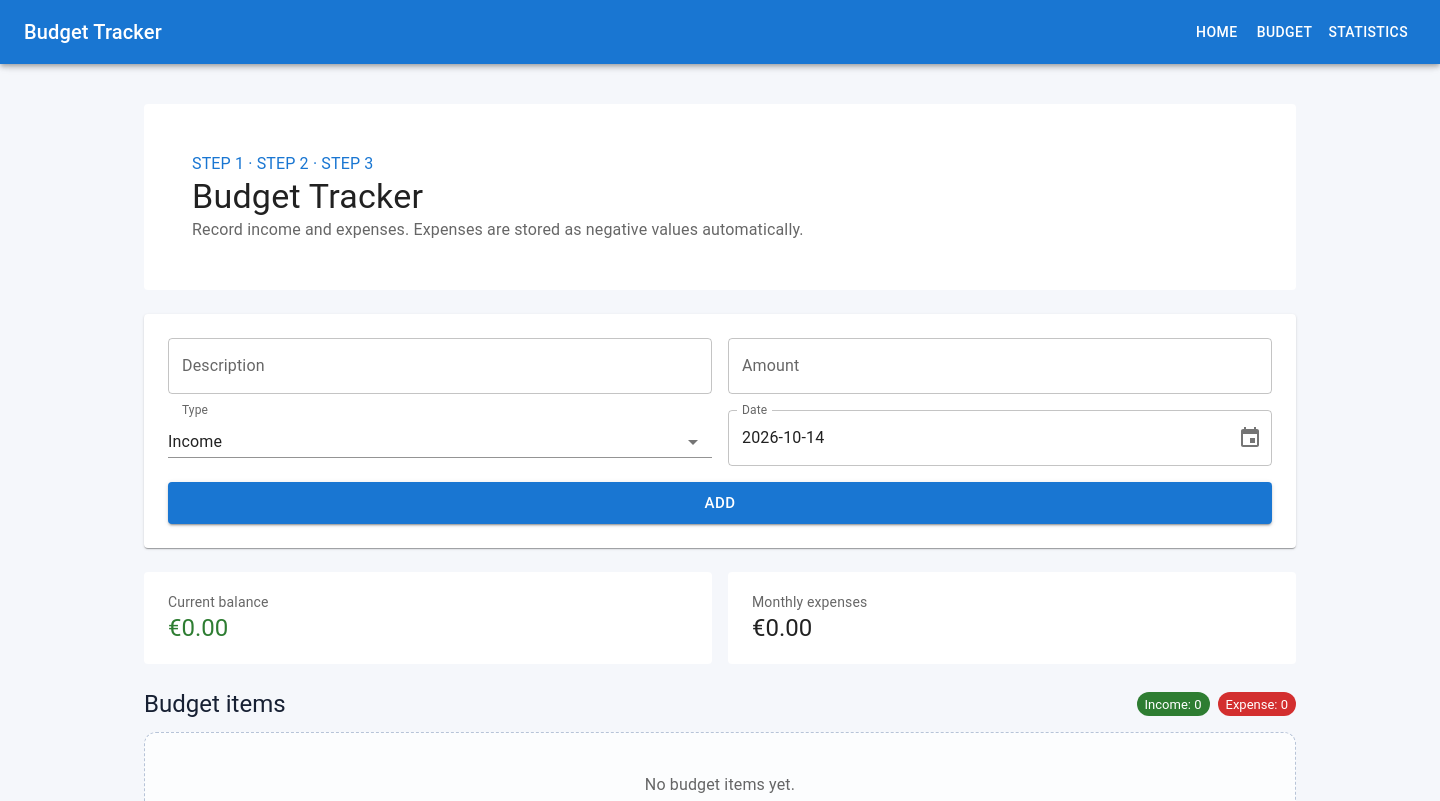
Test: Budget Tracker routes › keeps budget items while navigating to statistics
The image size is (1440, 801).
Step 1. Type "Salary" into the field labelled "Description" → [440, 366], box [168,338,712,394]
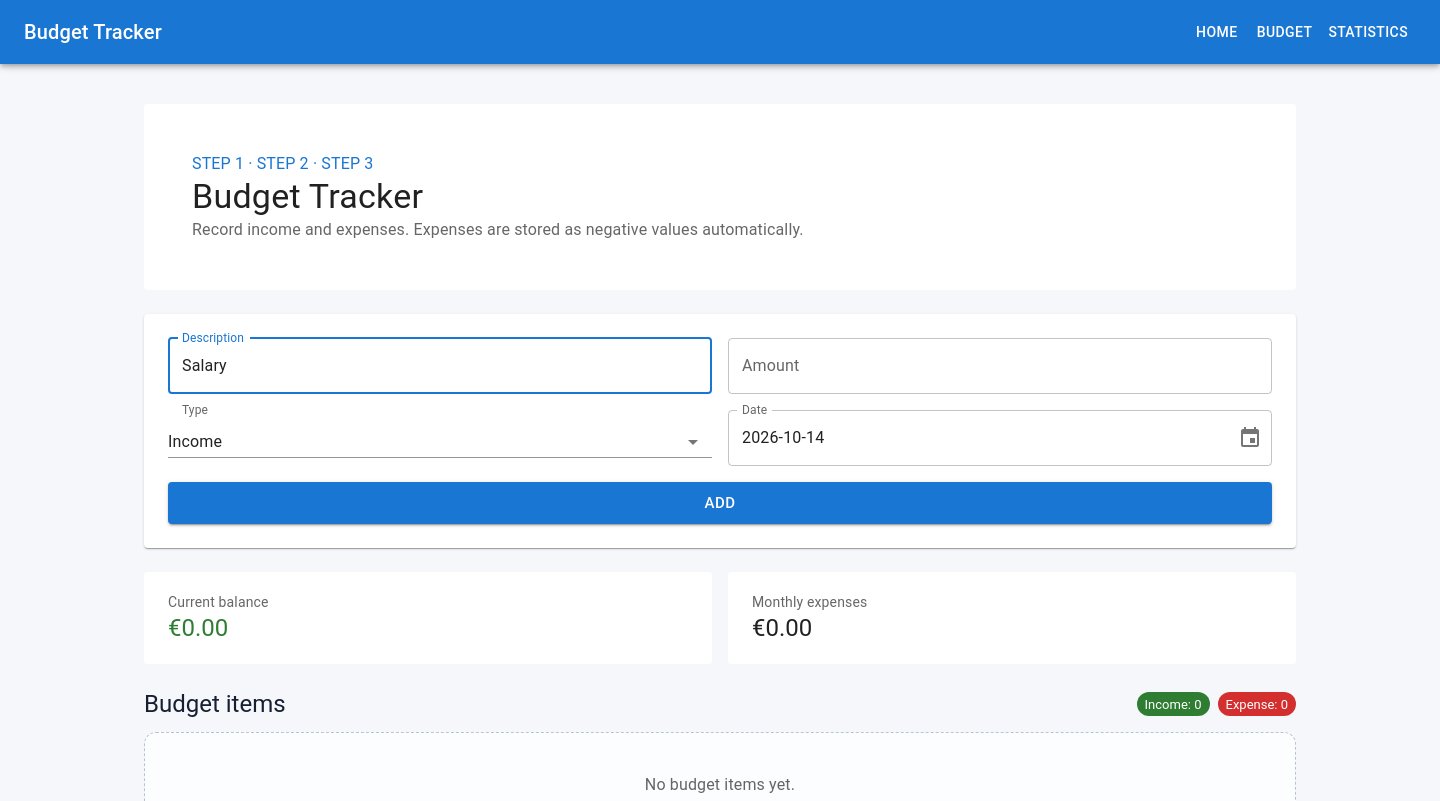
Step 2. Type "450" into the field labelled "Amount" → [1000, 366], box [728,338,1272,394]
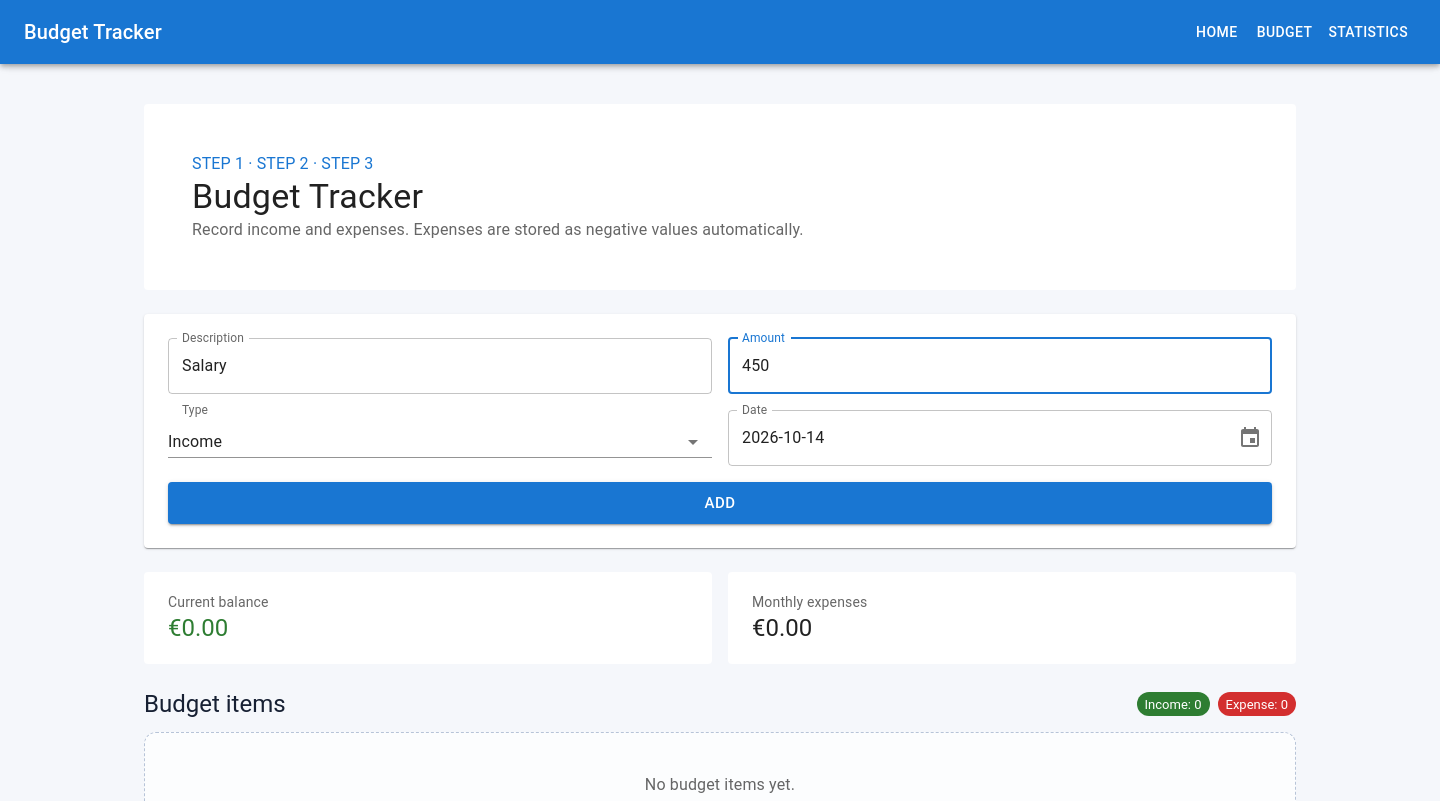
Step 3. Select "Income" in the dropdown labelled "Type" → [440, 442], box [168,426,712,458]
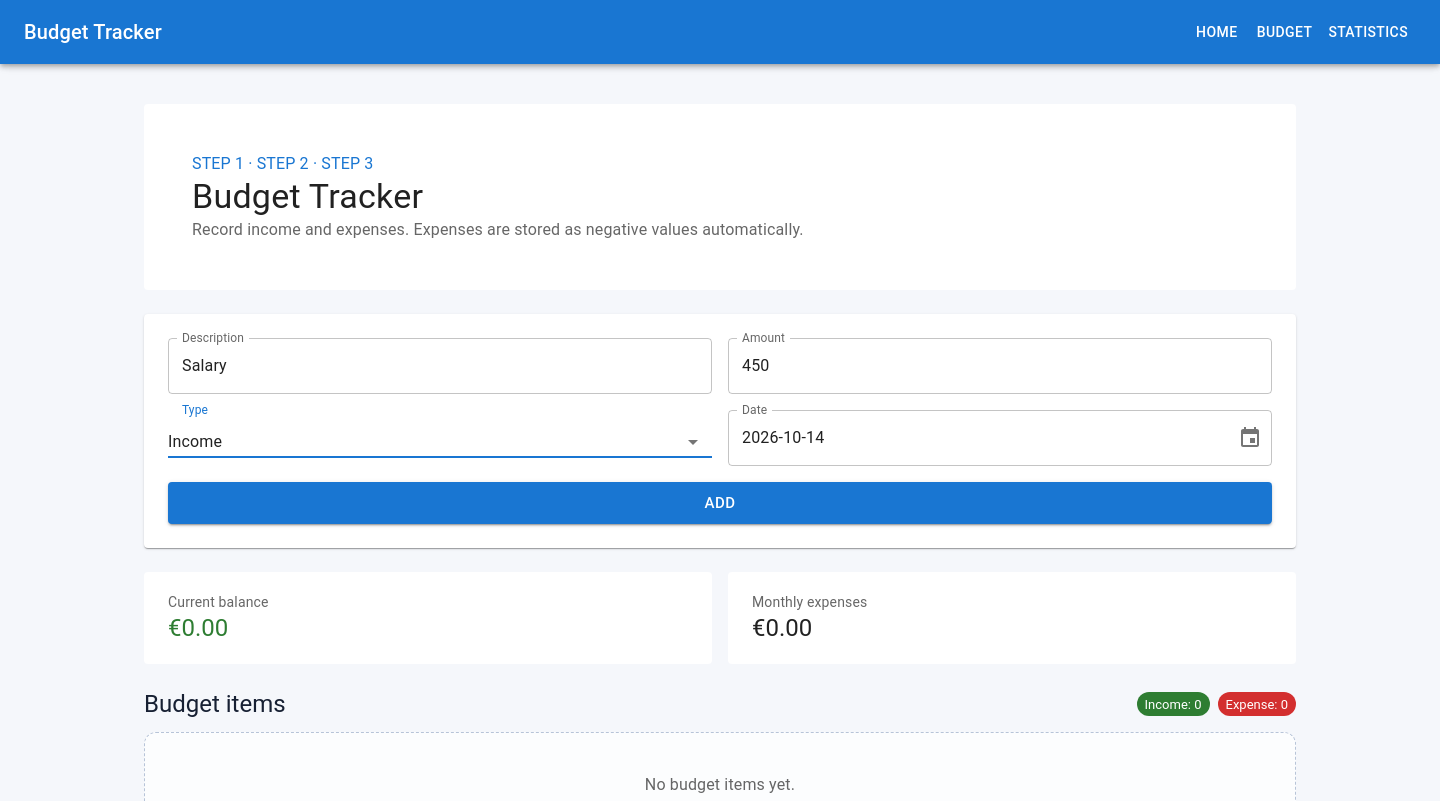
Step 4. Click the button "Add" → [720, 503], box [168,482,1272,524]
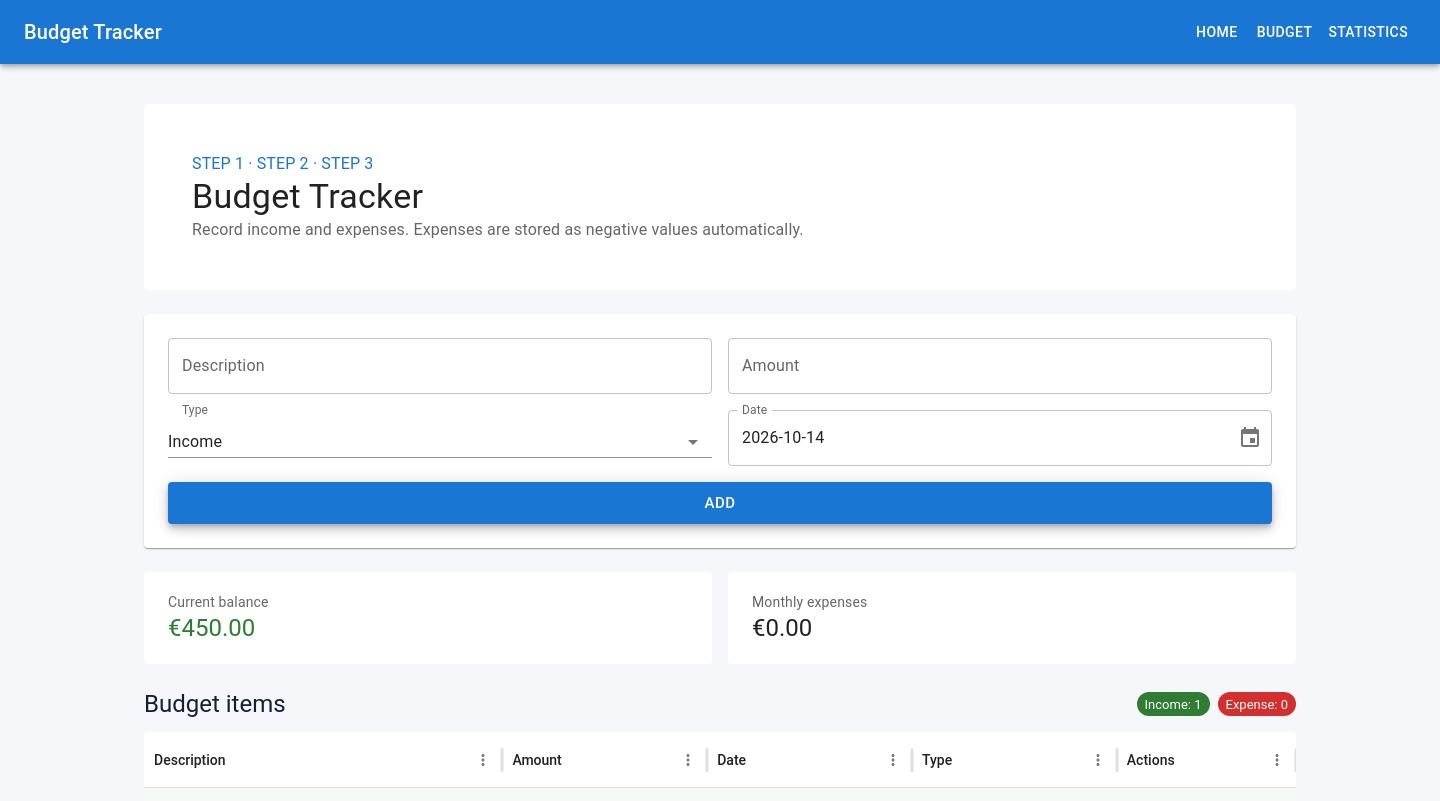
Step 5. Click the link "Statistics" → [1368, 32], box [1328,24,1408,40]
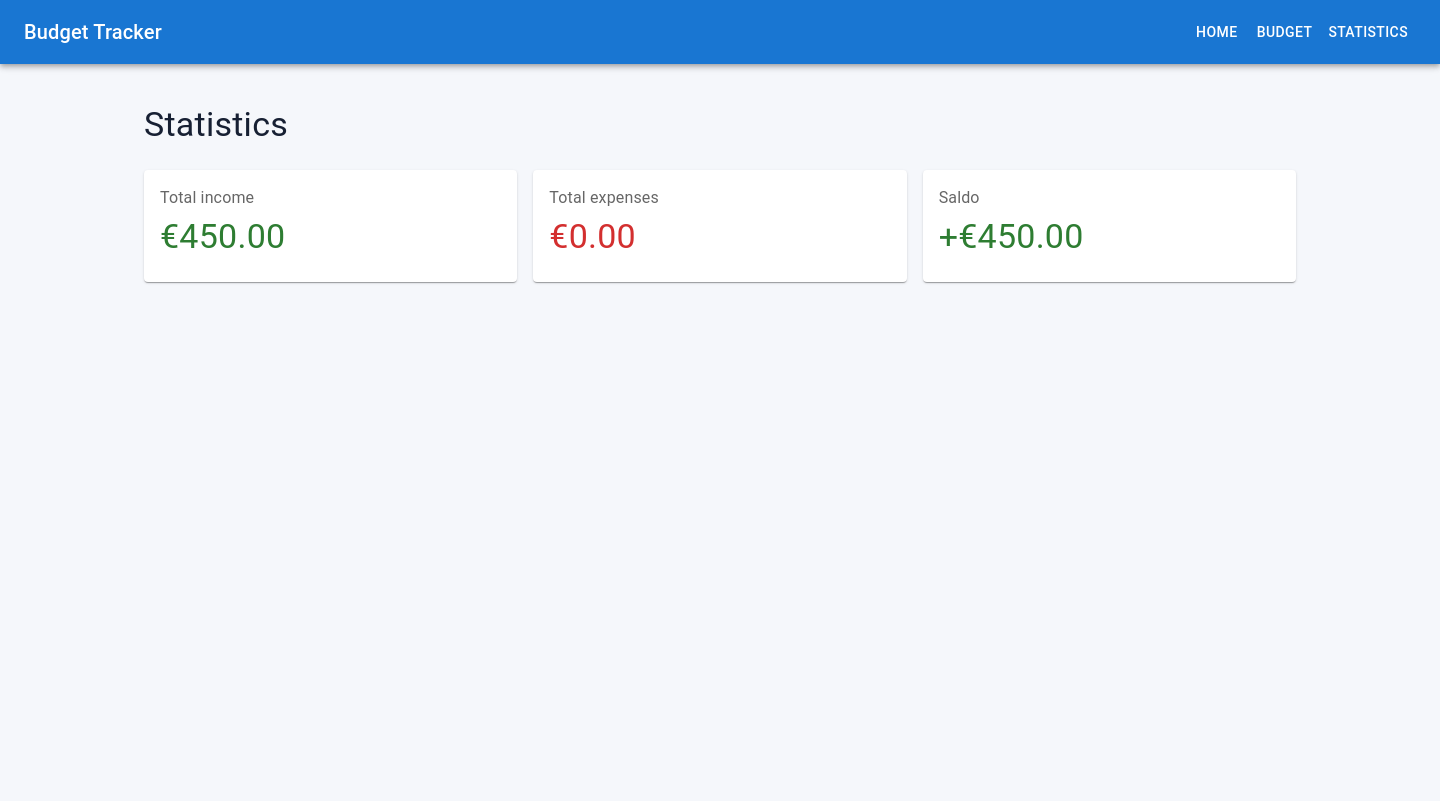
Check: the heading "€450.00" is shown, box [160,216,285,256]
Check: the heading "Statistics" is shown, box [144,104,288,144]
Check: the text "Total income" is shown, box [160,188,254,207]
